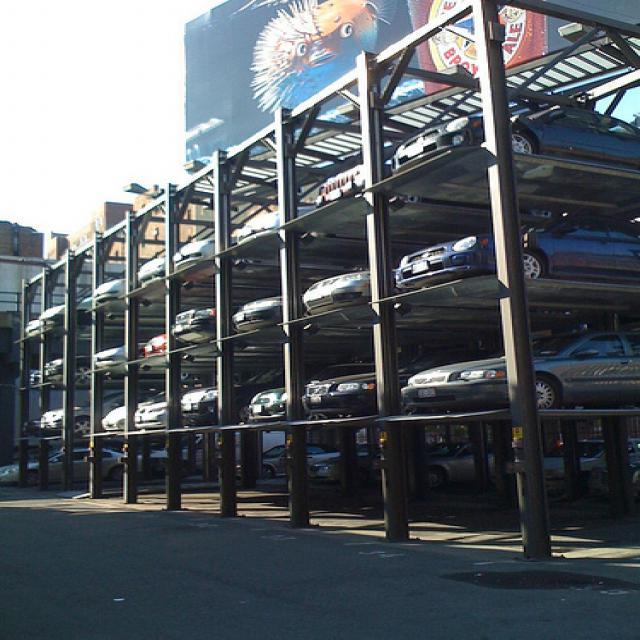Car: (405, 332, 639, 418), (395, 104, 640, 178), (399, 230, 640, 297), (312, 360, 404, 415), (299, 265, 385, 318), (179, 378, 230, 434), (246, 377, 300, 419)
